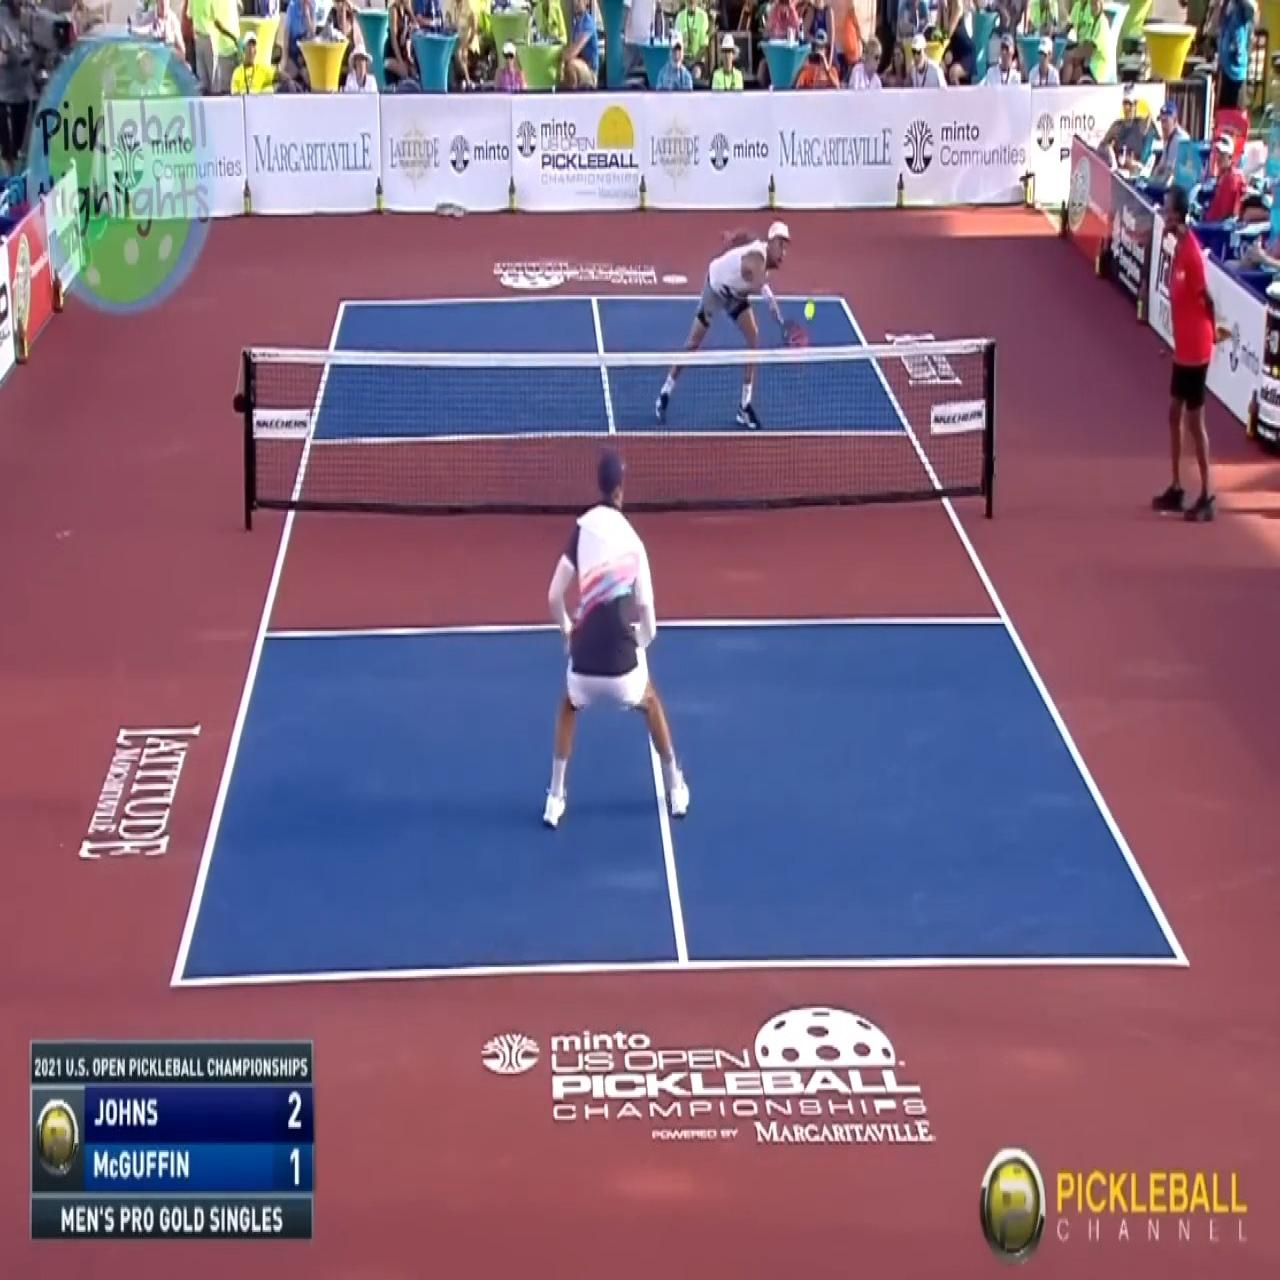pickleball: (804, 299, 815, 320)
